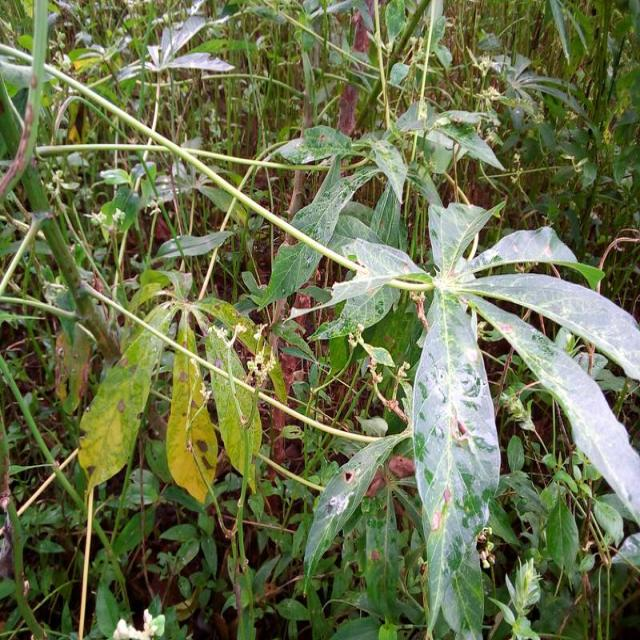cassava leaf: (410, 288, 501, 638), (76, 298, 177, 490), (165, 314, 218, 504)
